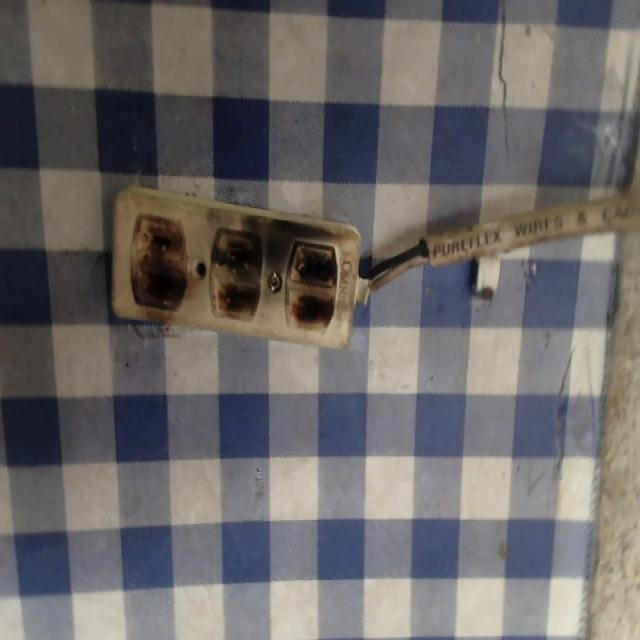-: (279, 233, 349, 349), (127, 211, 191, 320), (205, 220, 264, 329)
